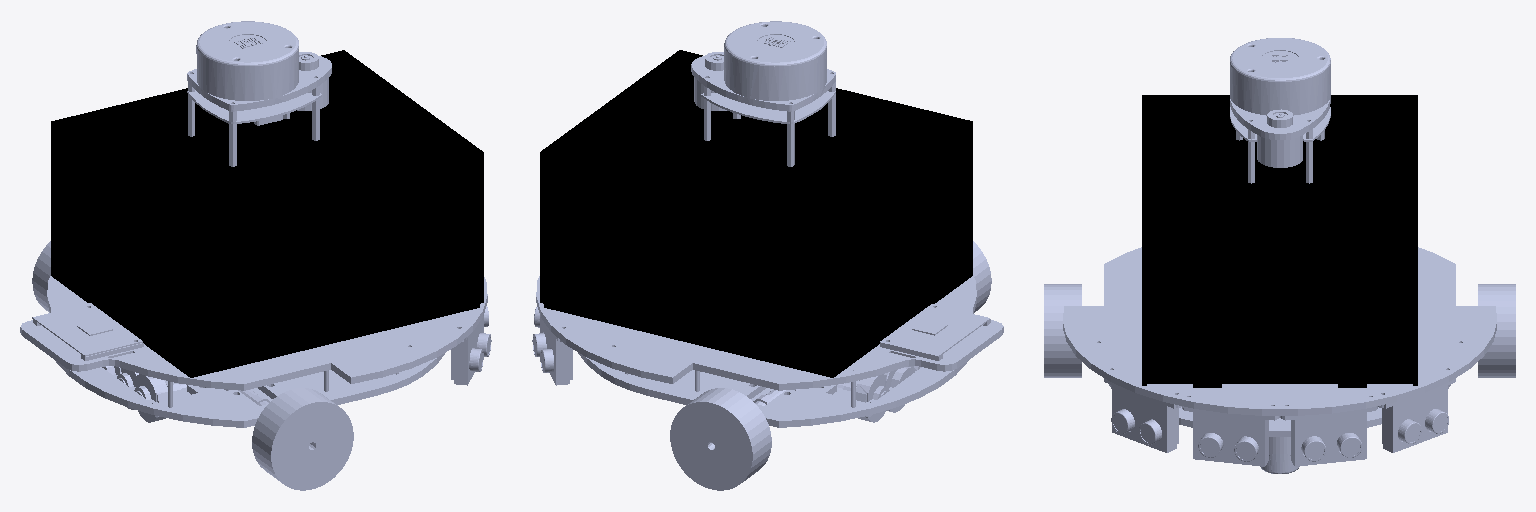
The robot description file, URDF, robot "fidbot":
<?xml version="1.0" encoding="utf-8"?>
<!-- This URDF was automatically created by SolidWorks to URDF Exporter! Originally created by [author] ([email redacted]) 
     Commit Version: 1.5.1-0-g916b5db  Build Version: 1.5.7152.31018
     For more information, please see http://wiki.ros.org/sw_urdf_exporter -->
<robot
  name="fidbot">
  <link
    name="base_link">
    <inertial>
      <origin
        xyz="0.00060977487405043 -7.6889684685888E-06 -0.00250008439111735"
        rpy="0 0 0" />
      <mass
        value="0.335039217090362" />
      <inertia
        ixx="0.00173457044635722"
        ixy="9.63211823887215E-08"
        ixz="-3.45257254508464E-09"
        iyy="0.00202947658886835"
        iyz="2.17400465193859E-13"
        izz="0.00376265109504113" />
    </inertial>
    <visual>
      <origin
        xyz="0 0 0"
        rpy="0 0 0" />
      <geometry>
        <mesh
          filename="package://fidbot/meshes/base_link.STL" />
      </geometry>
      <material
        name="">
        <color
          rgba="0.792156862745098 0.819607843137255 0.933333333333333 1" />
      </material>
    </visual>
    <collision>
      <origin
        xyz="0 0 0"
        rpy="0 0 0" />
      <geometry>
        <mesh
          filename="package://fidbot/meshes/base_link.STL" />
      </geometry>
    </collision>
  </link>
  <link
    name="linkbox">
    <inertial>
      <origin
        xyz="-0.0917952522284009 -0.00404501253313666 -0.00105179580813172"
        rpy="0 0 0" />
      <mass
        value="0.639472525879179" />
      <inertia
        ixx="0.00230059306653575"
        ixy="-3.47861583516215E-18"
        ixz="7.88900876989971E-06"
        iyy="0.00325151836199418"
        iyz="3.04424803142244E-07"
        izz="0.00149830362286689" />
    </inertial>
    <visual>
      <origin
        xyz="0 0 0"
        rpy="0 0 0" />
      <geometry>
        <mesh
          filename="package://fidbot/meshes/linkbox.STL" />
      </geometry>
      <material
        name="">
        <color
          rgba="0 0 0 1" />
      </material>
    </visual>
    <collision>
      <origin
        xyz="0 0 0"
        rpy="0 0 0" />
      <geometry>
        <mesh
          filename="package://fidbot/meshes/linkbox.STL" />
      </geometry>
    </collision>
  </link>
  <joint
    name="jointbox"
    type="fixed">
    <origin
      xyz="0 0.092 0.054"
      rpy="-1.5707963267949 0 1.5707963267949" />
    <parent
      link="base_link" />
    <child
      link="linkbox" />
    <axis
      xyz="0 0 0" />
  </joint>
  <link
    name="linkLIDAR">
    <inertial>
      <origin
        xyz="-0.00748249753674316 0.0103923028642053 9.15432607012656E-05"
        rpy="0 0 0" />
      <mass
        value="1.33633465232473" />
      <inertia
        ixx="0.000636948443182251"
        ixy="0.000158328723185597"
        ixz="8.02103268501332E-07"
        iyy="0.00110829768548224"
        iyz="3.05788753903622E-06"
        izz="0.000986251065152222" />
    </inertial>
    <visual>
      <origin
        xyz="0 0 0"
        rpy="0 0 0" />
      <geometry>
        <mesh
          filename="package://fidbot/meshes/linkLIDAR.STL" />
      </geometry>
      <material
        name="">
        <color
          rgba="0.792156862745098 0.819607843137255 0.933333333333333 1" />
      </material>
    </visual>
    <collision>
      <origin
        xyz="0 0 0"
        rpy="0 0 0" />
      <geometry>
        <mesh
          filename="package://fidbot/meshes/linkLIDAR.STL" />
      </geometry>
    </collision>
  </link>
  <joint
    name="jointLIDAR"
    type="fixed">
    <origin
      xyz="-0.0918176074979228 -0.1035 0.000896991546574535"
      rpy="3.14159265358979 1.5707963267949 0" />
    <parent
      link="linkbox" />
    <child
      link="linkLIDAR" />
    <axis
      xyz="0 0 0" />
  </joint>
  <link
    name="linkIMU">
    <inertial>
      <origin
        xyz="0.00189704834489479 -0.00123595477383354 0.000911029985282474"
        rpy="0 0 0" />
      <mass
        value="0.00585503983141193" />
      <inertia
        ixx="3.24242120502615E-06"
        ixy="1.005726718568E-23"
        ixz="1.71850009391159E-09"
        iyy="4.29745565295782E-06"
        iyz="-7.20401860581613E-24"
        izz="1.05904919056805E-06" />
    </inertial>
    <visual>
      <origin
        xyz="0 0 0"
        rpy="0 0 0" />
      <geometry>
        <mesh
          filename="package://fidbot/meshes/linkIMU.STL" />
      </geometry>
      <material
        name="">
        <color
          rgba="0.792156862745098 0.819607843137255 0.933333333333333 1" />
      </material>
    </visual>
    <collision>
      <origin
        xyz="0 0 0"
        rpy="0 0 0" />
      <geometry>
        <mesh
          filename="package://fidbot/meshes/linkIMU.STL" />
      </geometry>
    </collision>
  </link>
  <joint
    name="jointIMU"
    type="fixed">
    <origin
      xyz="-0.135866488834025 -0.000515942639651323 0.00401350388362468"
      rpy="1.5707963267949 0 3.14159265358979" />
    <parent
      link="base_link" />
    <child
      link="linkIMU" />
    <axis
      xyz="0 0 0" />
  </joint>
  <link
    name="linkultra">
    <inertial>
      <origin
        xyz="-0.0800030864666462 -0.000613139021023029 -0.0538948314891746"
        rpy="0 0 0" />
      <mass
        value="0.0574699336614826" />
      <inertia
        ixx="1.49818137279467E-05"
        ixy="3.79839285253487E-07"
        ixz="-3.6677225925484E-06"
        iyy="1.6170454609226E-05"
        iyz="-3.87279432054593E-07"
        izz="1.576324578047E-05" />
    </inertial>
    <visual>
      <origin
        xyz="0 0 0"
        rpy="0 0 0" />
      <geometry>
        <mesh
          filename="package://fidbot/meshes/linkultra.STL" />
      </geometry>
      <material
        name="">
        <color
          rgba="0.792156862745098 0.819607843137255 0.933333333333333 1" />
      </material>
    </visual>
    <collision>
      <origin
        xyz="0 0 0"
        rpy="0 0 0" />
      <geometry>
        <mesh
          filename="package://fidbot/meshes/linkultra.STL" />
      </geometry>
    </collision>
  </link>
  <joint
    name="jointultra"
    type="fixed">
    <origin
      xyz="0.106250059451623 0.0956178563765655 -0.0254999999999999"
      rpy="1.5707963267949 0 2.30244441468232" />
    <parent
      link="base_link" />
    <child
      link="linkultra" />
    <axis
      xyz="0 0 0" />
  </joint>
  <link
    name="linkspacer">
    <inertial>
      <origin
        xyz="0.0716666666666667 0.0165 -0.10642135623731"
        rpy="0 0 0" />
      <mass
        value="0.00139957952717425" />
      <inertia
        ixx="1.27799105575099E-07"
        ixy="-6.69399091984228E-41"
        ixz="2.56699380211772E-57"
        iyy="1.57452696807103E-09"
        iyz="-6.82424005356248E-25"
        izz="1.27799105575099E-07" />
    </inertial>
    <visual>
      <origin
        xyz="0 0 0"
        rpy="0 0 0" />
      <geometry>
        <mesh
          filename="package://fidbot/meshes/linkspacer.STL" />
      </geometry>
      <material
        name="">
        <color
          rgba="0.792156862745098 0.819607843137255 0.933333333333333 1" />
      </material>
    </visual>
    <collision>
      <origin
        xyz="0 0 0"
        rpy="0 0 0" />
      <geometry>
        <mesh
          filename="package://fidbot/meshes/linkspacer.STL" />
      </geometry>
    </collision>
  </link>
  <joint
    name="jointspacer"
    type="fixed">
    <origin
      xyz="0.04 0.10642135623731 -0.033"
      rpy="1.5707963267949 0 3.14159265358979" />
    <parent
      link="base_link" />
    <child
      link="linkspacer" />
    <axis
      xyz="0 0 0" />
  </joint>
  <link
    name="linkgear">
    <inertial>
      <origin
        xyz="0.12813149575428 0.143572436141778 0.201951014377181"
        rpy="0 0 0" />
      <mass
        value="0.591305364986354" />
      <inertia
        ixx="0.0014132340066407"
        ixy="7.21539816356571E-06"
        ixz="-3.28293928346403E-06"
        iyy="0.00307496046660538"
        iyz="6.28369033110642E-08"
        izz="0.00177479954819302" />
    </inertial>
    <visual>
      <origin
        xyz="0 0 0"
        rpy="0 0 0" />
      <geometry>
        <mesh
          filename="package://fidbot/meshes/linkgear.STL" />
      </geometry>
      <material
        name="">
        <color
          rgba="0.792156862745098 0.819607843137255 0.933333333333333 1" />
      </material>
    </visual>
    <collision>
      <origin
        xyz="0 0 0"
        rpy="0 0 0" />
      <geometry>
        <mesh
          filename="package://fidbot/meshes/linkgear.STL" />
      </geometry>
    </collision>
  </link>
  <joint
    name="jointgear"
    type="fixed">
    <origin
      xyz="-0.0603213098451419 -0.14598622913024 -0.30829172080317"
      rpy="0 0 0" />
    <parent
      link="linkspacer" />
    <child
      link="linkgear" />
    <axis
      xyz="0 0 0" />
  </joint>
</robot>

--- Facts derived from the render (not from the file) ---
3 views of the same robot in one strip: view 1: azimuth 30°, elevation 25°; view 2: azimuth 150°, elevation 25°; view 3: azimuth 270°, elevation 25° (orthographic).
Robot: fidbot — 7 links, 6 joints (6 fixed); root link base_link; default pose: all joints at 0.
Links seen in each view (by area): view 1: linkbox, linkgear, base_link, linkLIDAR, linkIMU, linkultra; view 2: linkbox, linkgear, base_link, linkLIDAR, linkIMU, linkultra; view 3: linkbox, base_link, linkultra, linkLIDAR, linkgear.
Link boxes in pixels (box(x1,y1,x2,y2)): linkbox: box(51, 50, 483, 377); linkgear: box(32, 241, 444, 490); base_link: box(20, 276, 487, 390); linkLIDAR: box(187, 21, 331, 166); linkIMU: box(32, 303, 143, 360); linkultra: box(451, 306, 491, 385); linkbox: box(540, 50, 972, 377); linkgear: box(578, 241, 991, 490); base_link: box(536, 276, 1003, 390); linkLIDAR: box(691, 21, 835, 166); linkIMU: box(880, 304, 990, 360); linkultra: box(532, 307, 572, 385); linkbox: box(1142, 95, 1417, 387); base_link: box(1063, 247, 1496, 415); linkultra: box(1104, 378, 1455, 466); linkLIDAR: box(1230, 38, 1330, 183); linkgear: box(1044, 284, 1515, 473).
Bounding box of the posed robot: 0.327 × 0.3248 × 0.2606 m (x, y, z).
7 mesh visuals loaded from 7 distinct referenced files (7 binary STL).